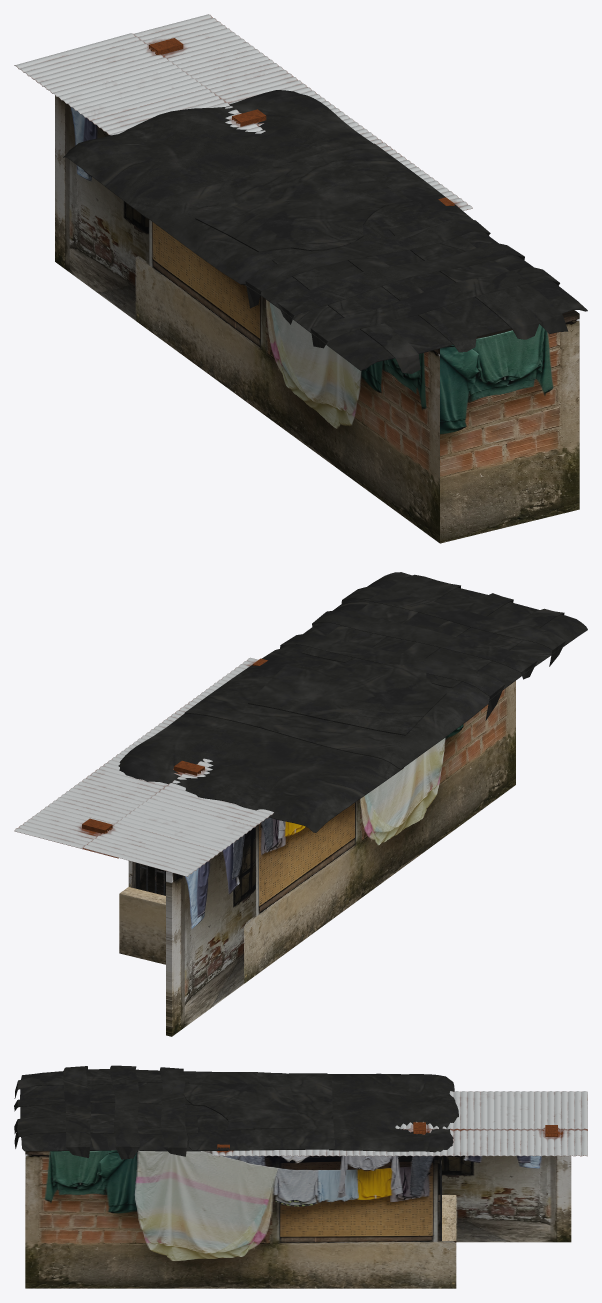
File: casa_2_derecha_06.fbx
3 views of the same model, one above another, from view 1: azimuth 30°, elevation 25°; view 2: azimuth 150°, elevation 25°; view 3: azimuth 270°, elevation 25° (orthographic). The views are drawn at different scales.
Parts seen in each view (by area): view 1: casa_camino2_derecha_06A.001, Techo_06, Techo_06.001; view 2: Techo_06, casa_camino2_derecha_06A.001, Techo_06.001, casa_camino2_derecha_06.001; view 3: casa_camino2_derecha_06A.001, Techo_06, Techo_06.001, casa_camino2_derecha_06.001.
Boxes of the visible parts, left/top/right/bottom form: casa_camino2_derecha_06A.001: left=55, top=95, right=579, bottom=543; Techo_06: left=63, top=90, right=587, bottom=373; Techo_06.001: left=14, top=14, right=472, bottom=210; Techo_06: left=118, top=572, right=587, bottom=832; casa_camino2_derecha_06A.001: left=119, top=681, right=515, bottom=1036; Techo_06.001: left=14, top=657, right=273, bottom=876; casa_camino2_derecha_06.001: left=128, top=861, right=165, bottom=895; casa_camino2_derecha_06A.001: left=25, top=1150, right=571, bottom=1288; Techo_06: left=14, top=1065, right=458, bottom=1159; Techo_06.001: left=212, top=1091, right=587, bottom=1156; casa_camino2_derecha_06.001: left=438, top=1156, right=441, bottom=1240.
Bounding box in the file's own units: 358 × 293 × 1004.
